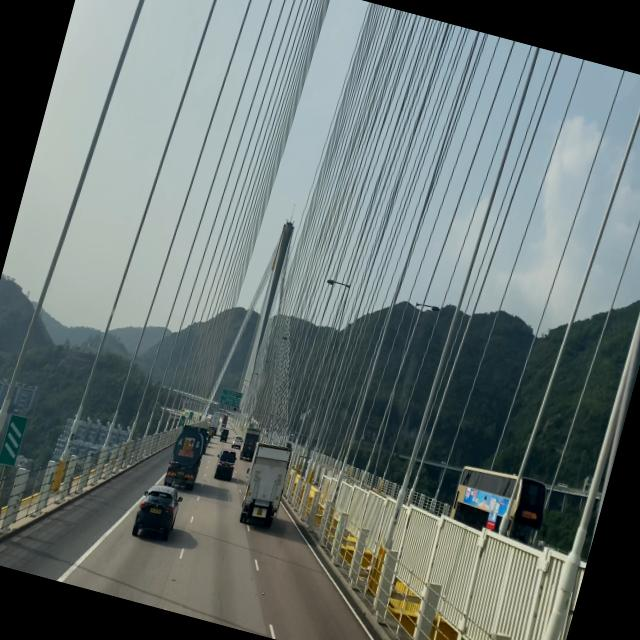Vehicle: (232, 441, 294, 535), (128, 477, 186, 545), (161, 420, 213, 494), (210, 443, 241, 486), (236, 423, 264, 464)
